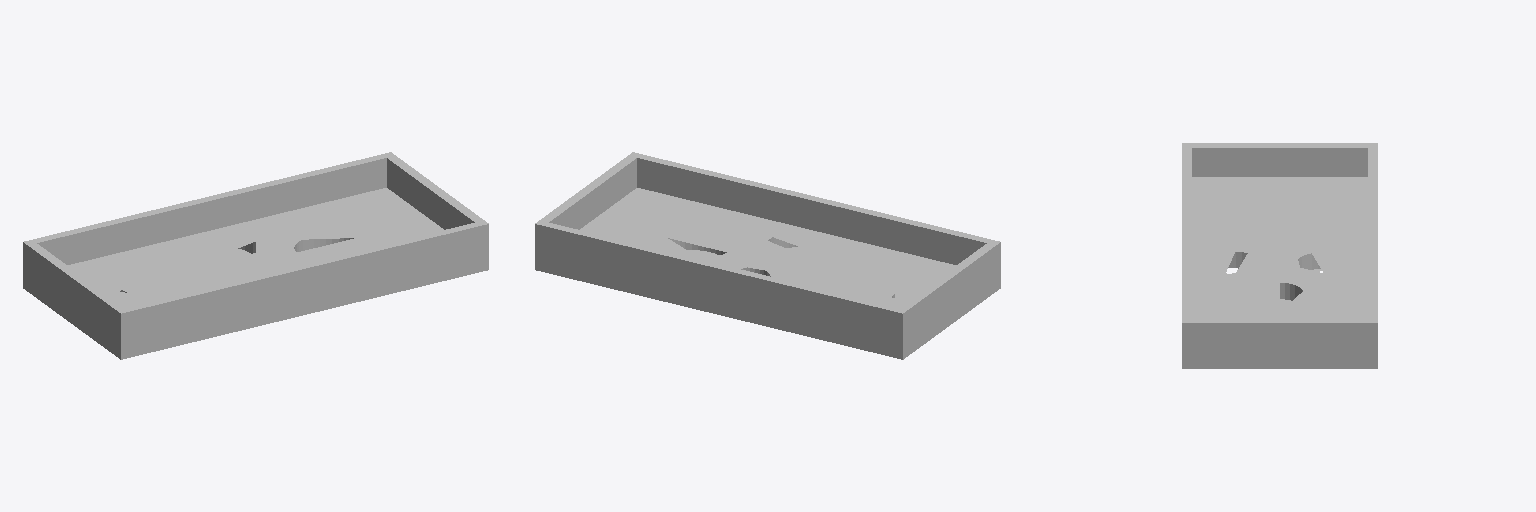
Rendered from Board5.obj.
3 renders of one model, left to right at view 1: azimuth 30°, elevation 25°; view 2: azimuth 150°, elevation 25°; view 3: azimuth 270°, elevation 25°, orthographic.
Parts seen in each view (by area): view 1: Cube; view 2: Cube; view 3: Cube.
Boxes of the visible parts, box(x1,y1,x2,y2) form: Cube: box(23, 152, 488, 359); Cube: box(535, 152, 1000, 359); Cube: box(1182, 143, 1377, 368).
Bounding box in the file's own units: 2.6 × 0.312 × 1.2.